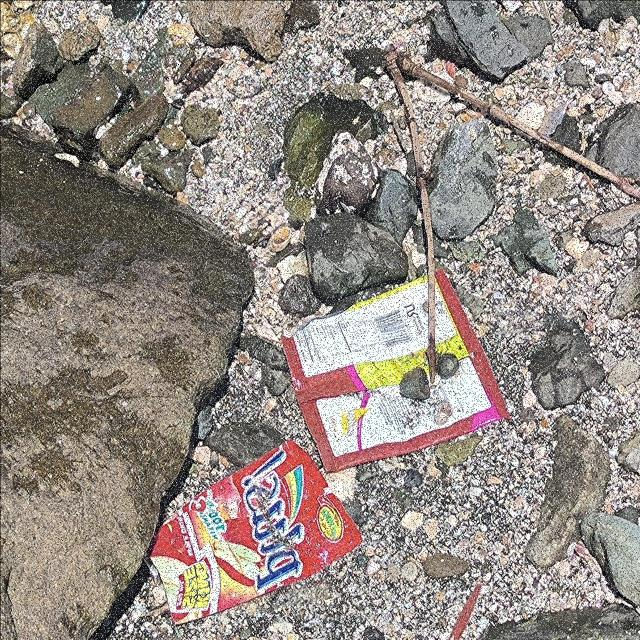plastic_waste: (280, 269, 512, 475), (143, 439, 365, 626)
